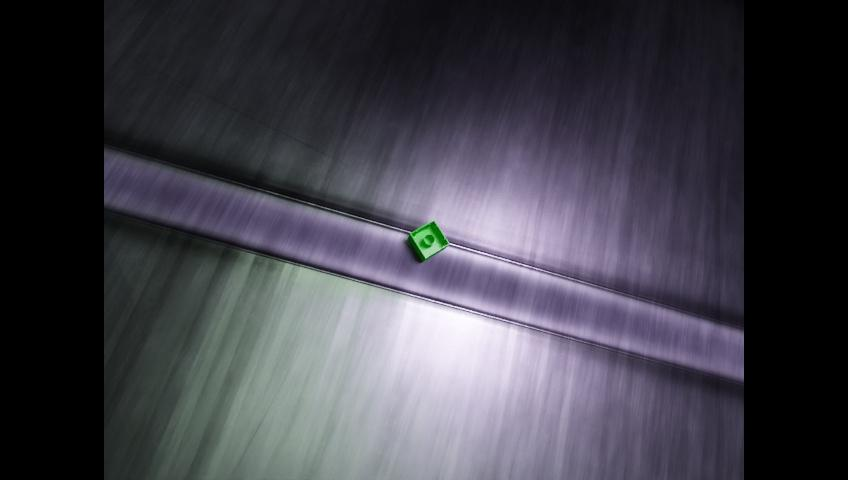2x2_green: (408, 219, 448, 261)
